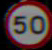Speed limit: (1, 4, 49, 43)
